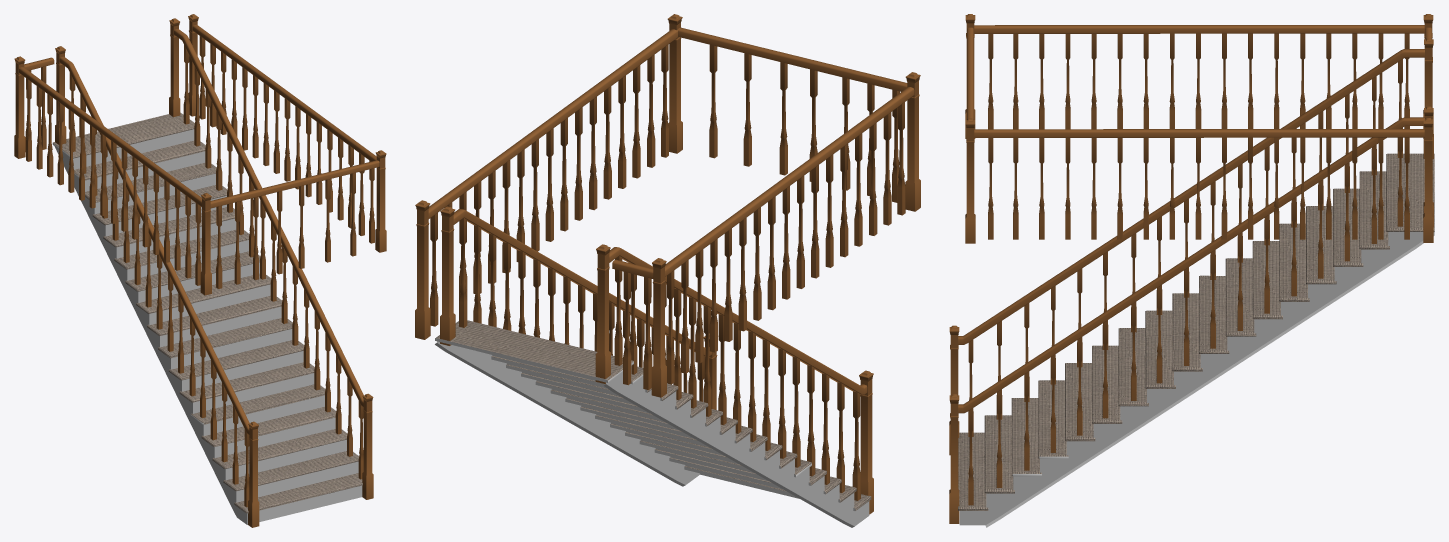
The model's file is stairs (1).fbx.
The picture shows the model from 3 angles, left to right: view 1: azimuth 30°, elevation 25°; view 2: azimuth 150°, elevation 25°; view 3: azimuth 270°, elevation 25°; orthographic projection. The views are drawn at different scales.
Parts seen in each view (by area): view 1: In_Stairs, In_Stairs_Railing2, In_Stairs2; view 2: In_Stairs_Railing2, In_Stairs, In_Stairs2, stai1; view 3: In_Stairs, In_Stairs_Railing2, In_Stairs2, stai1.
Part boxes in pixels (x1=…): In_Stairs: x1=52, y1=46, x2=362, y2=527; In_Stairs_Railing2: x1=14, y1=14, x2=386, y2=295; In_Stairs2: x1=168, y1=18, x2=373, y2=499; In_Stairs_Railing2: x1=415, y1=14, x2=920, y2=397; In_Stairs: x1=435, y1=244, x2=873, y2=527; In_Stairs2: x1=440, y1=206, x2=718, y2=471; stai1: x1=435, y1=339, x2=699, y2=486; In_Stairs: x1=949, y1=38, x2=1434, y2=510; In_Stairs_Railing2: x1=965, y1=14, x2=1433, y2=243; In_Stairs2: x1=949, y1=106, x2=1434, y2=523; stai1: x1=959, y1=232, x2=1434, y2=527.
Bounding box in the file's own units: 222 × 395 × 418.
Materials: 4 (1 with a texture image).
